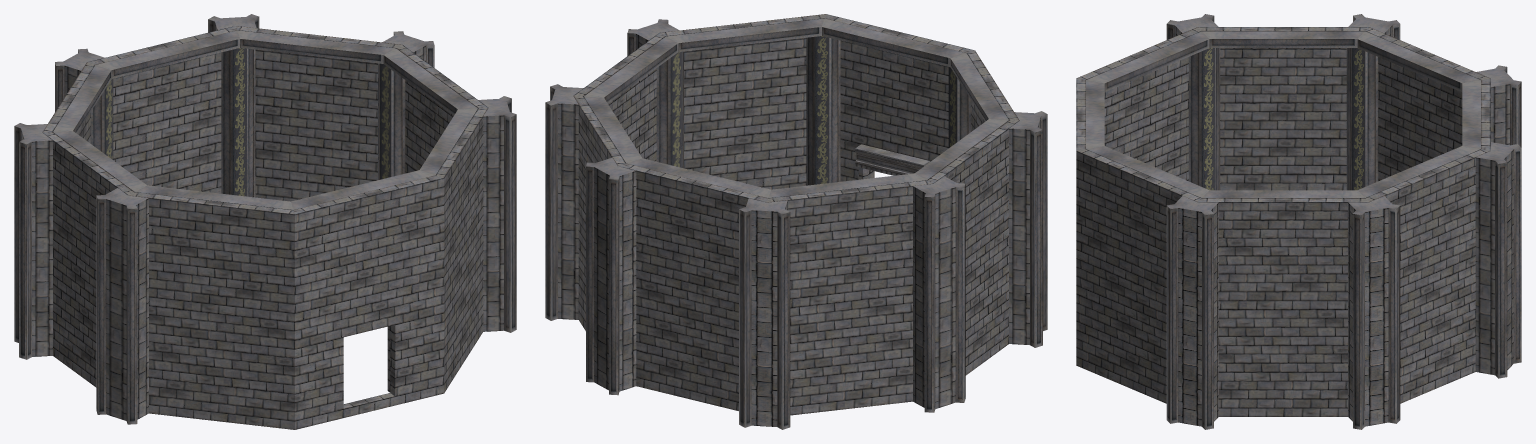
File: sanctum_base_01.fbx
The picture shows the model from 3 angles, left to right: view 1: azimuth 30°, elevation 25°; view 2: azimuth 150°, elevation 25°; view 3: azimuth 270°, elevation 25°; orthographic projection.
Parts seen in each view (by area): view 1: sanctum_base_01; view 2: sanctum_base_01; view 3: sanctum_base_01.
Boxes of the visible parts, bbox=[...] form: sanctum_base_01: bbox=[14, 14, 516, 429]; sanctum_base_01: bbox=[545, 14, 1047, 429]; sanctum_base_01: bbox=[1076, 14, 1521, 429].
Size of the model in its own units: 4828 by 2400 by 4514.
